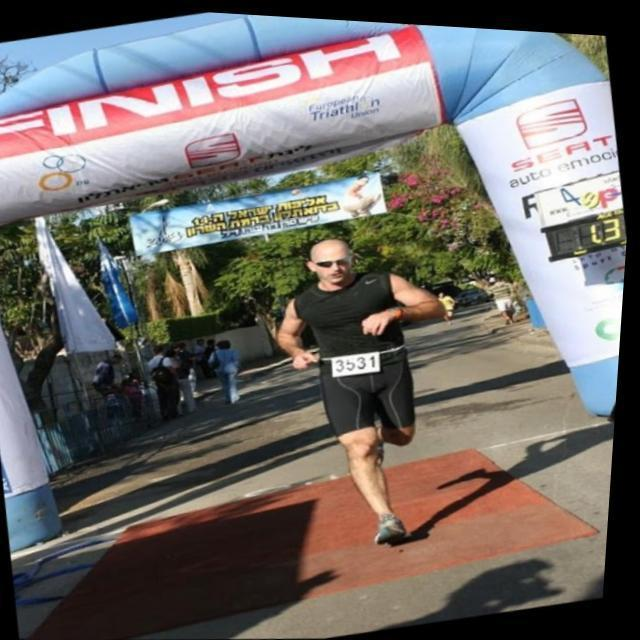dorsal: (324, 343, 390, 386)
